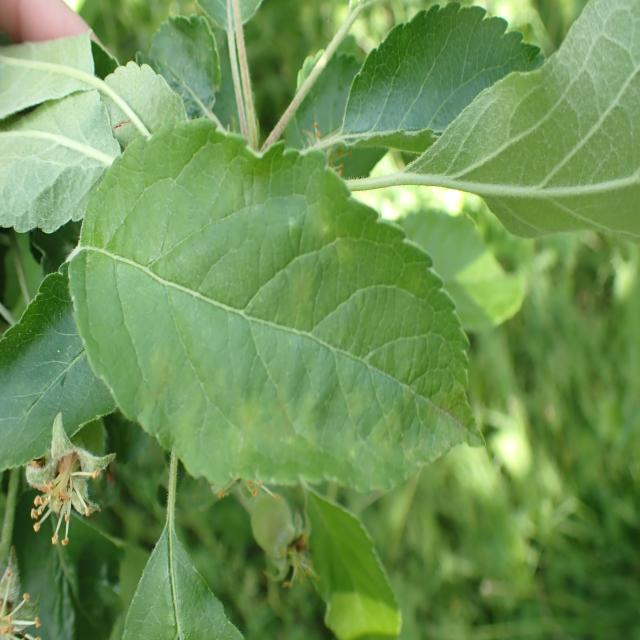scab: (92, 164, 462, 487)
